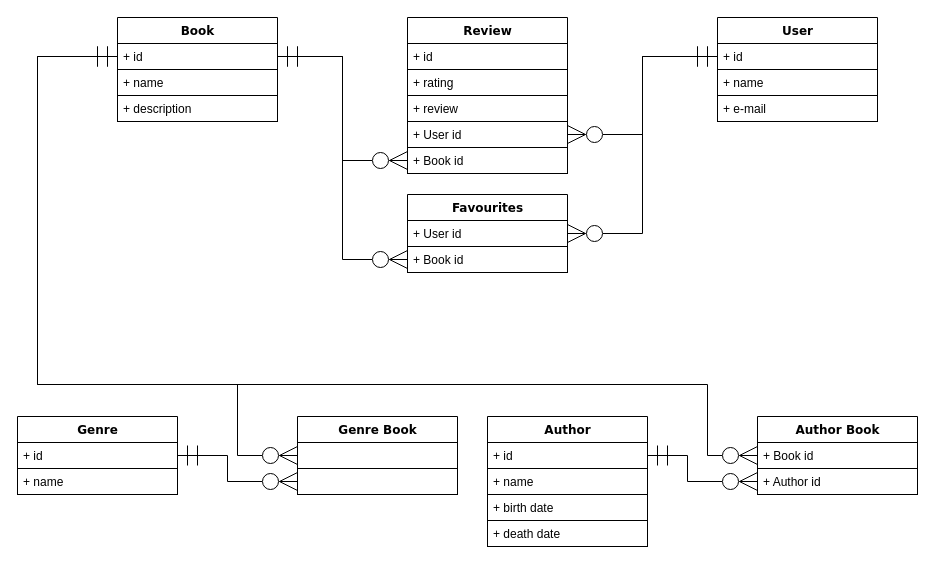
This 935x567 diagram has some shape labels left out. Here are the shapes that lost their labels. From the top down, the centre of each, then its label:
At point (377, 455): "+ Book".
At point (377, 481): "+ Genre".
